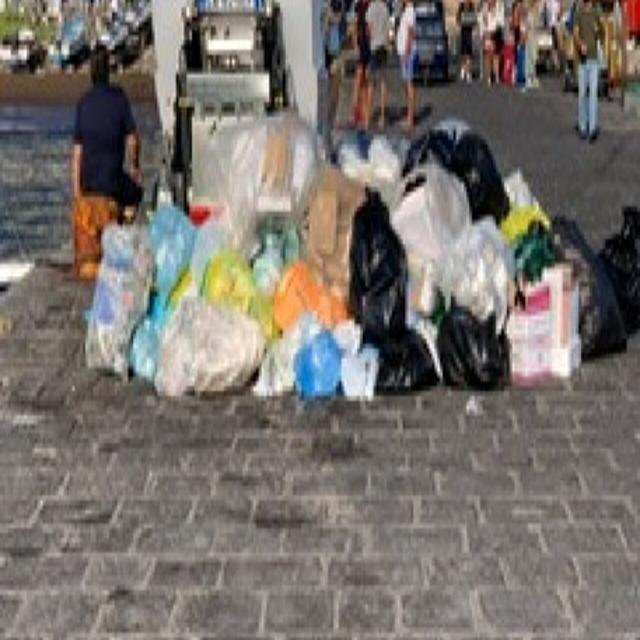garbage: (83, 123, 640, 414)
